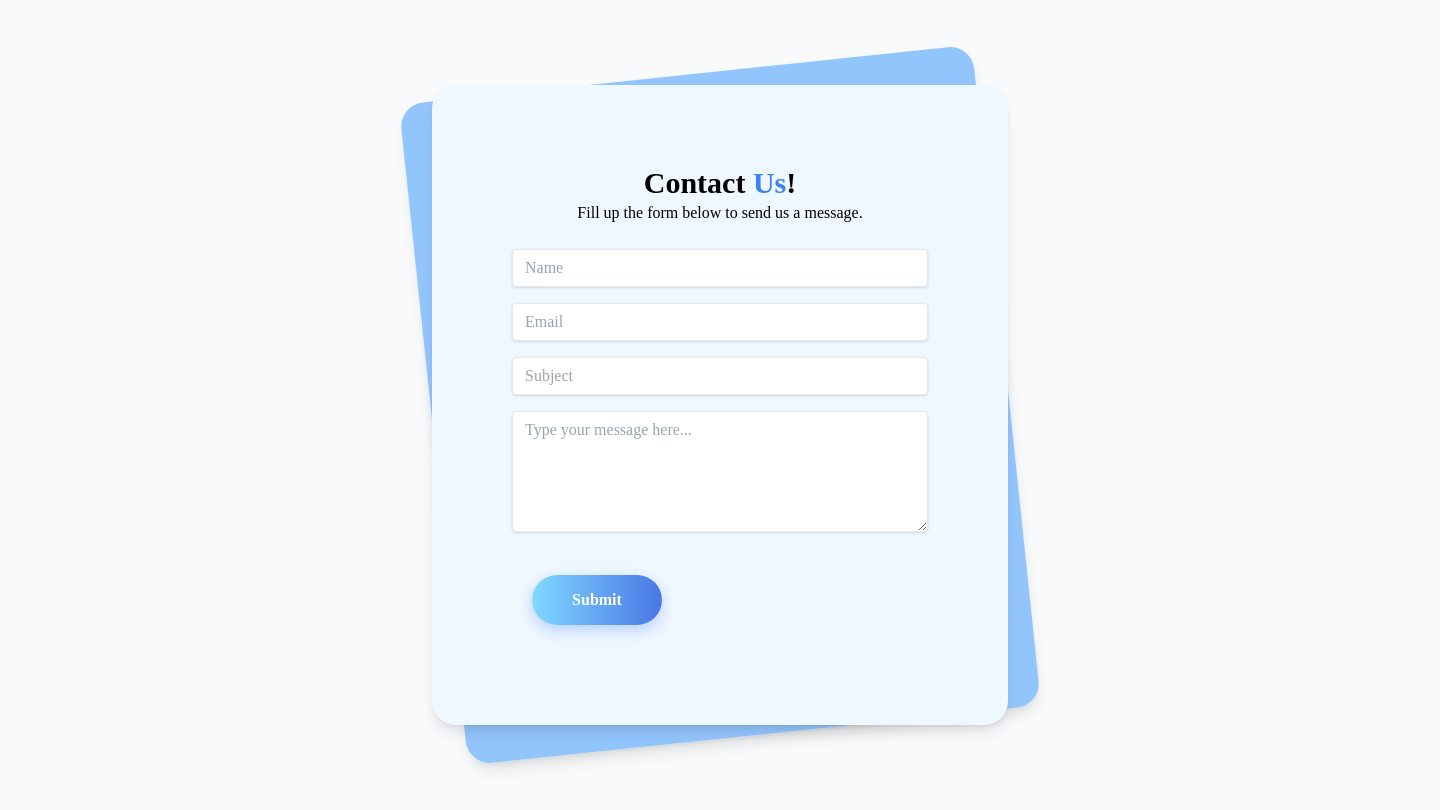
it: ContactUs › submits the form successfully
The image size is (1440, 810).
# Fill out the form
In the field with placeholder "Name": (720, 268) [512,249,928,287], type "John Doe"
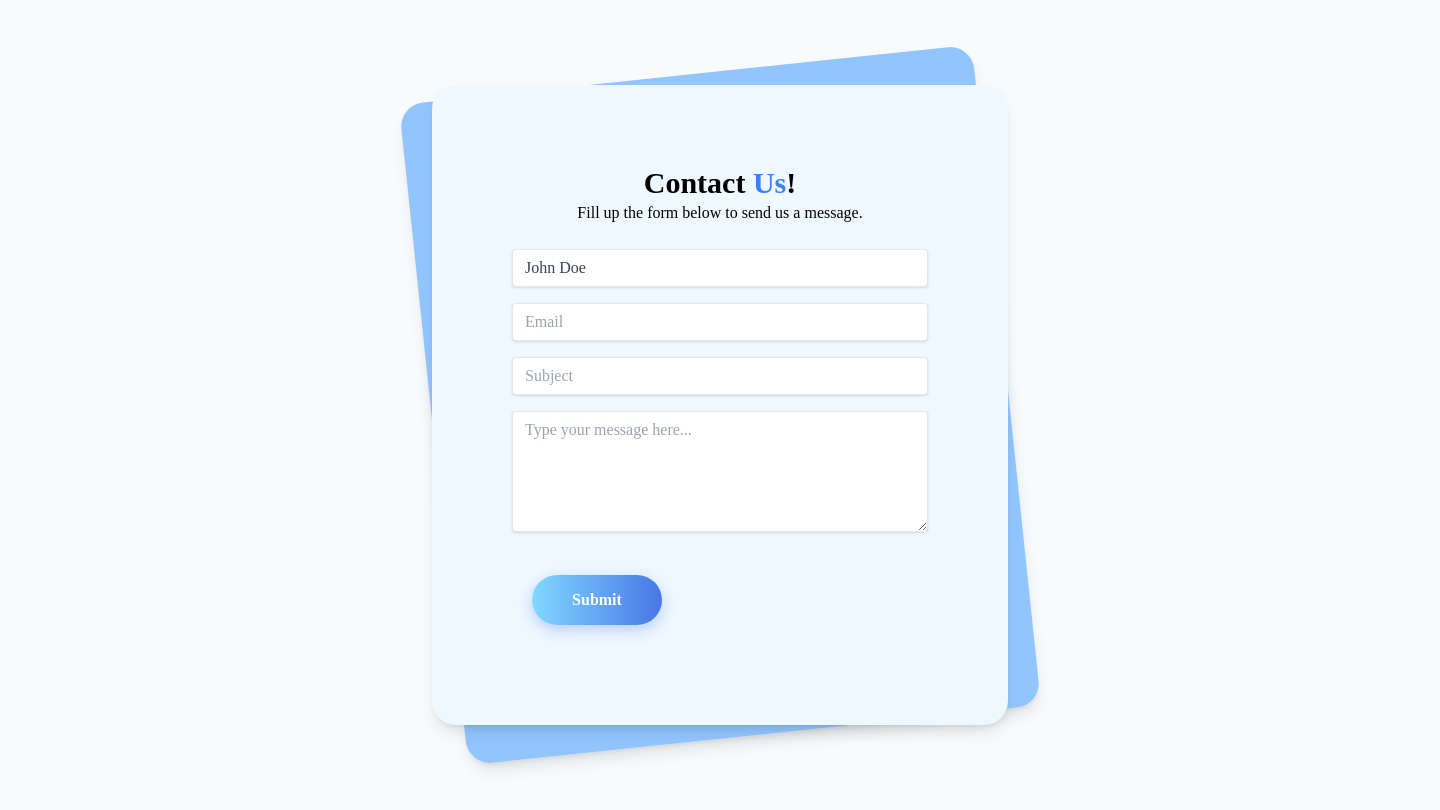
In the field with placeholder "Email": (720, 322) [512,303,928,341], type "john@example.com"
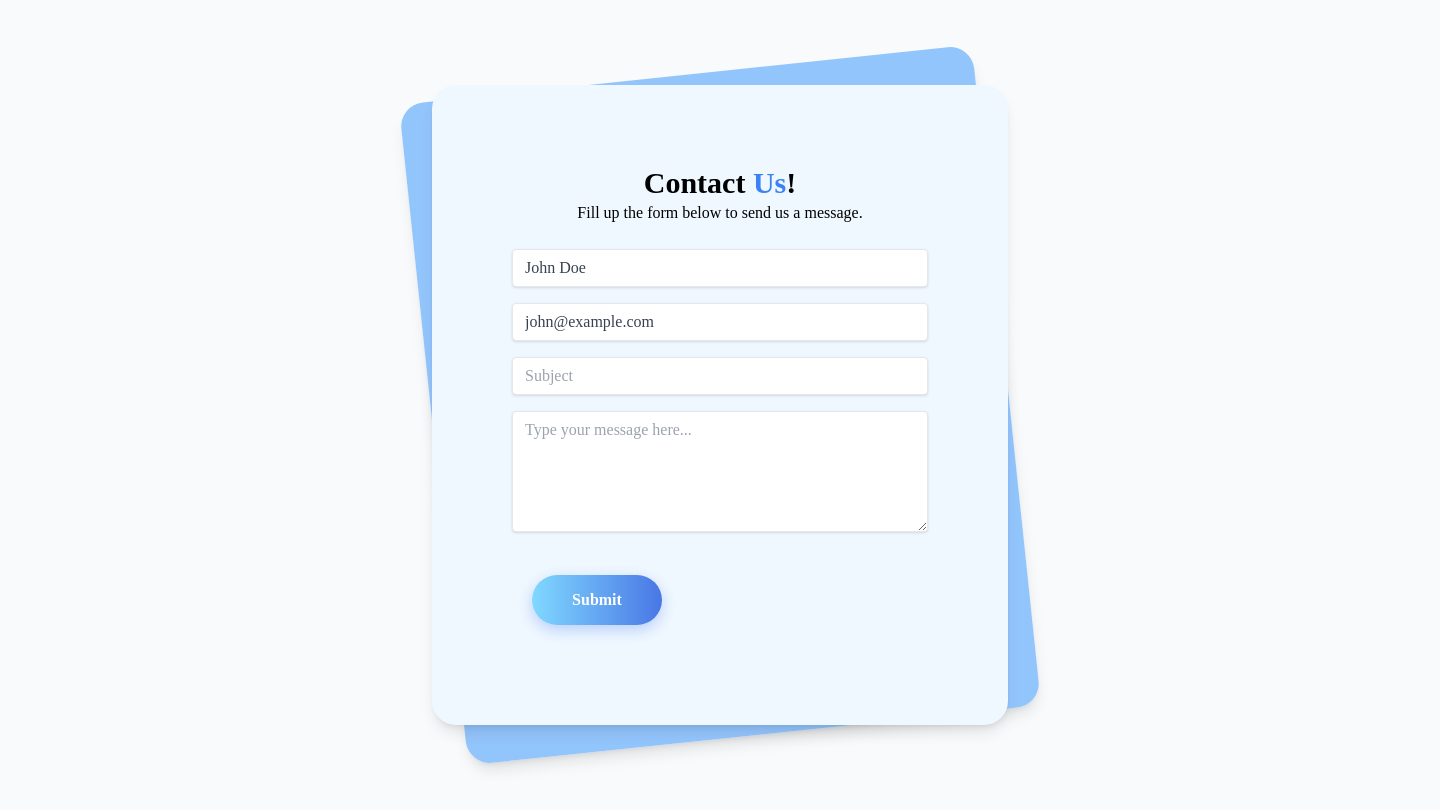
In the field with placeholder "Subject": (720, 376) [512,357,928,395], type "Test Subject"
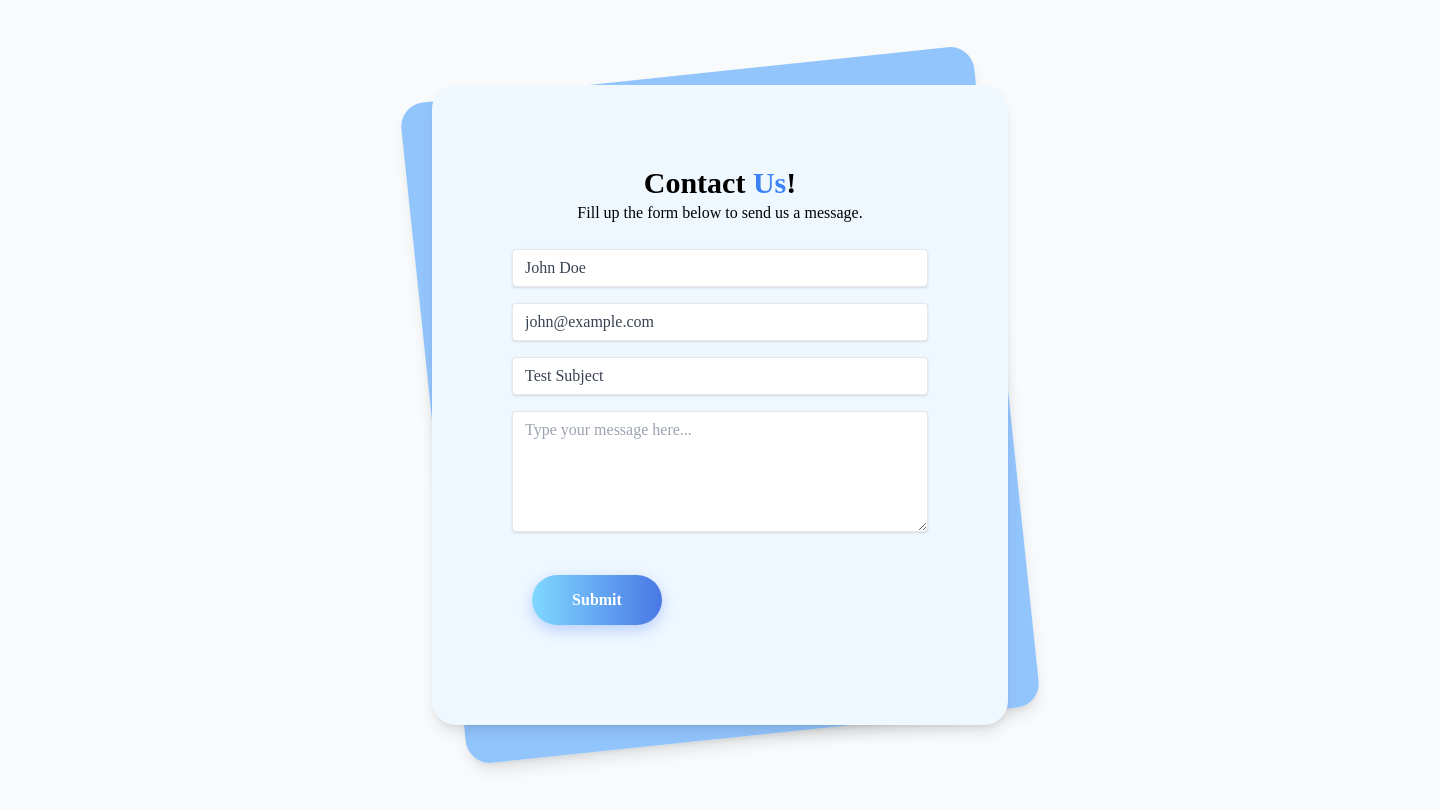
In the text box with placeholder "Type your message here...": (720, 472) [512,411,928,532], type "Test Message"
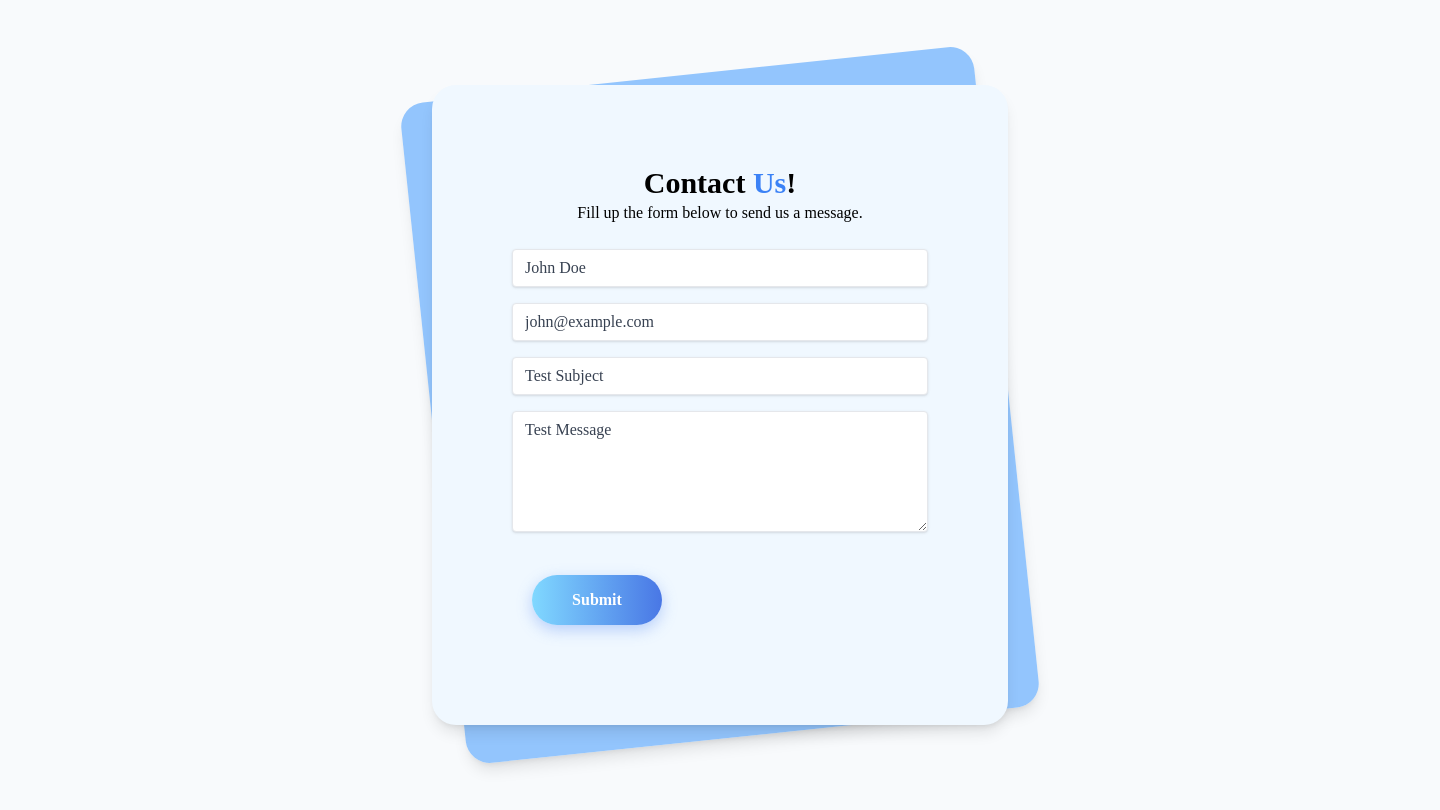
# Submit the form
Click the button "Submit": (597, 600) [532,575,662,625]
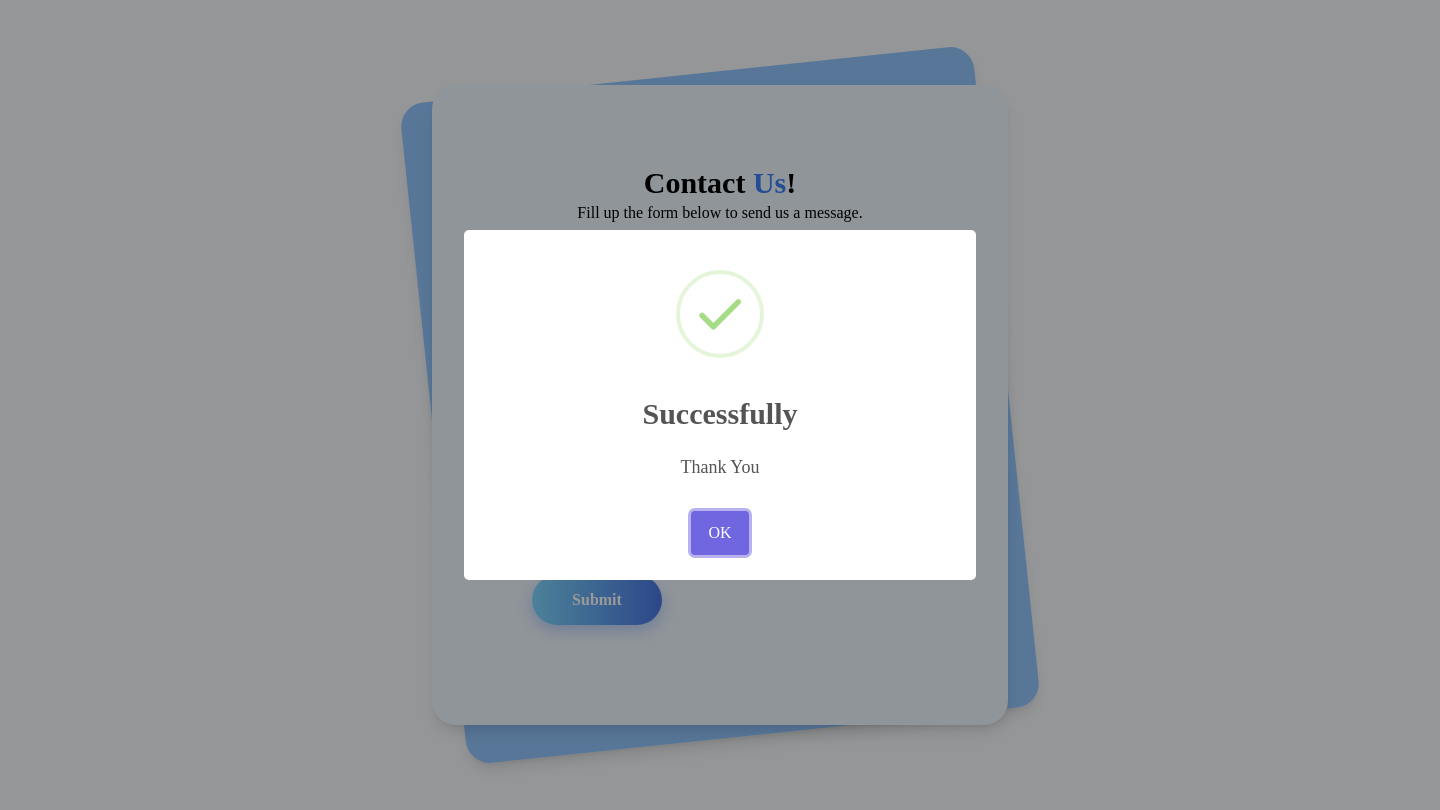
Expected: the heading "Successfully" is shown, [642,397,798,430]
